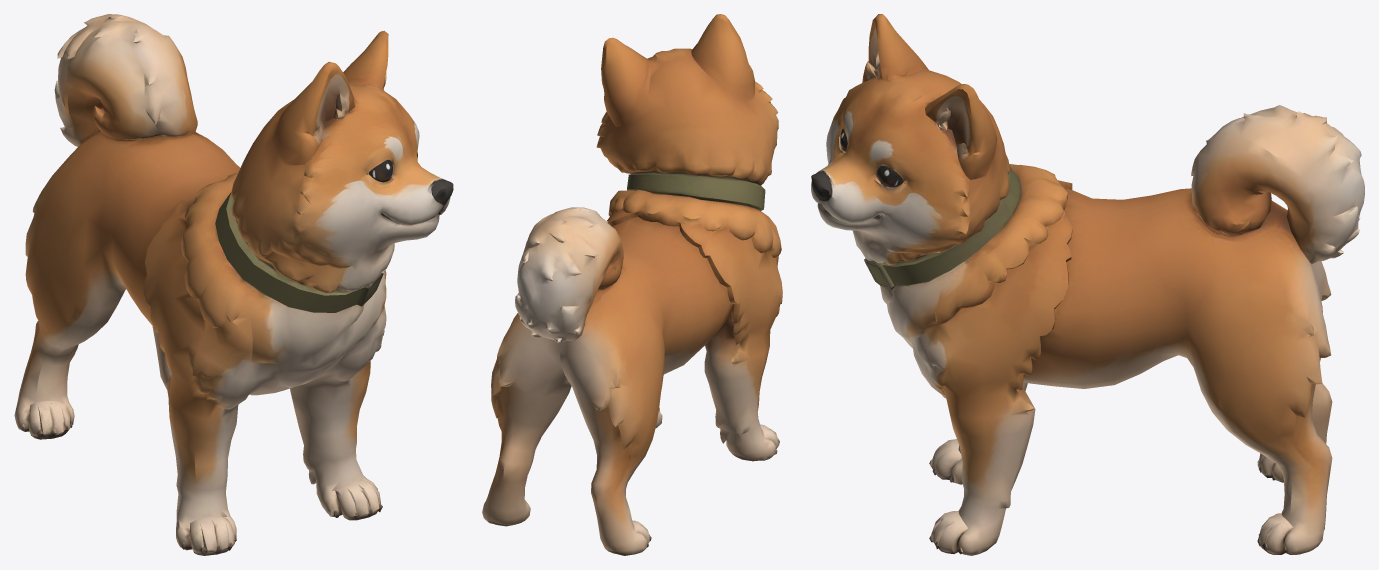
File: shiba-static.glb
The picture shows the model from 3 angles, left to right: view 1: azimuth 30°, elevation 25°; view 2: azimuth 150°, elevation 25°; view 3: azimuth 270°, elevation 25°; orthographic projection. The views are drawn at different scales.
Visible parts, largest first — view 1: tripo_node_4d543d07-1178-4868-8aa3-9d4bcb7da2a1; view 2: tripo_node_4d543d07-1178-4868-8aa3-9d4bcb7da2a1; view 3: tripo_node_4d543d07-1178-4868-8aa3-9d4bcb7da2a1.
Boxes of the visible parts, left/top/right/bottom form: tripo_node_4d543d07-1178-4868-8aa3-9d4bcb7da2a1: left=14, top=14, right=453, bottom=555; tripo_node_4d543d07-1178-4868-8aa3-9d4bcb7da2a1: left=482, top=14, right=782, bottom=555; tripo_node_4d543d07-1178-4868-8aa3-9d4bcb7da2a1: left=811, top=14, right=1364, bottom=555.
Bounding box in the file's own units: 0.4707 × 0.998 × 0.998.
1 material, 1 textured.
